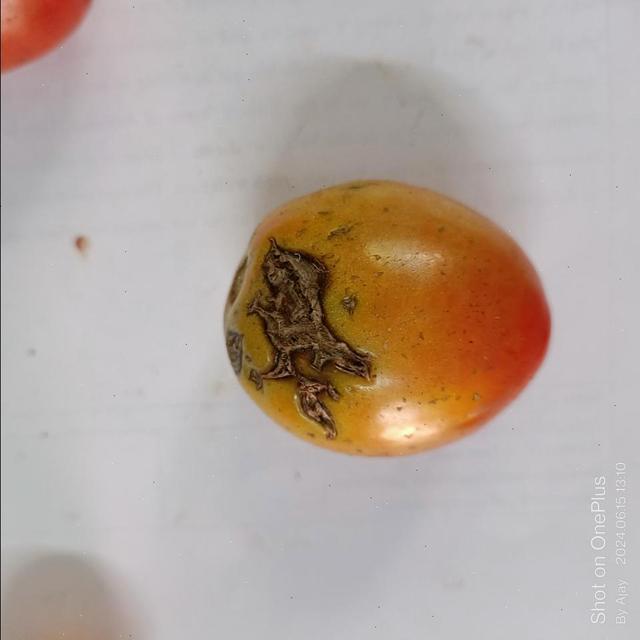Bacterial Spot Fruit: (166, 161, 250, 293)
